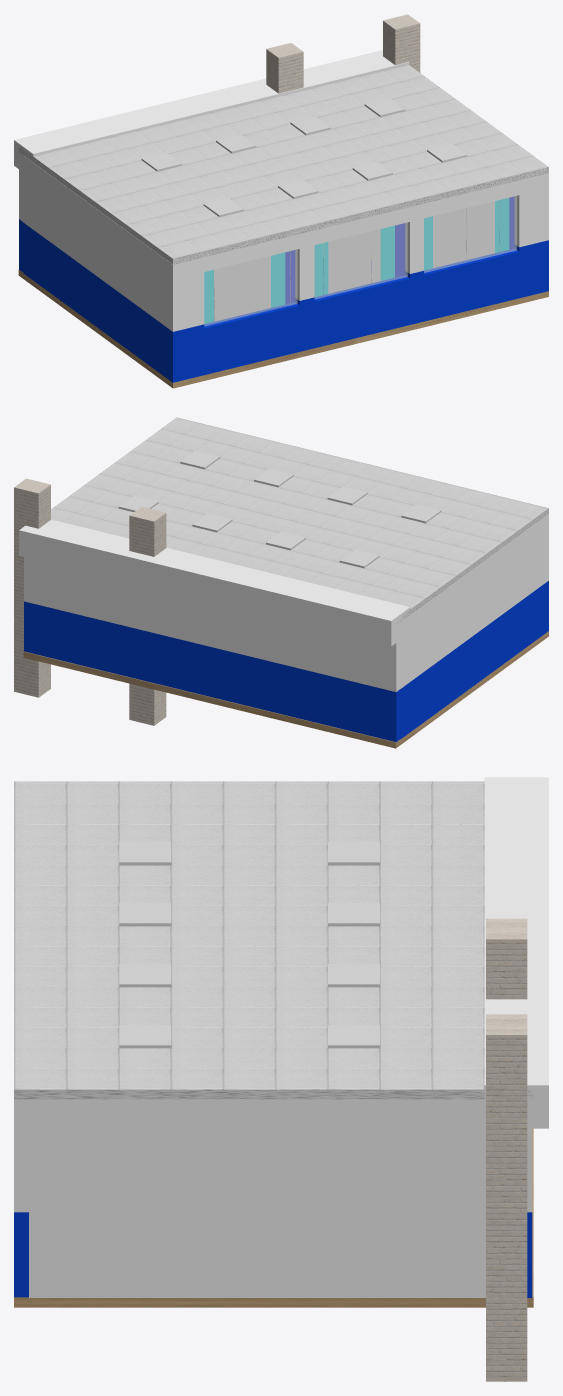
File: офис 3.fbx
The picture shows the model from 3 angles, top to bottom: view 1: azimuth 30°, elevation 25°; view 2: azimuth 150°, elevation 25°; view 3: azimuth 270°, elevation 25°; orthographic projection. The views are drawn at different scales.
Visible parts, largest first — view 1: Cube.005, Cube.003, Cube.008, Cube.006, Cube.009, Cube, Куб.282, Куб.143, Куб.283, Cube.004, Куб.319, Куб.318 (+8 smaller); view 2: Cube.005, Cube.001, Cube.007, Cube.009, Cube.006, Cube, Куб.319, Cube.004, Куб.318, Куб.007, Куб.001, Куб.002 (+4 smaller); view 3: Cube.005, Cube.002, Куб.319, Cube.009, Cube.004, Куб.318, Cube.008, Куб.005, Куб.007, Куб.004, Куб.006, Cube.003 (+4 smaller).
Part boxes in pixels (x1,y1,x2,y2): Cube.005: [18, 65, 548, 264]; Cube.003: [168, 240, 548, 382]; Cube.008: [168, 173, 548, 331]; Cube.006: [23, 155, 168, 327]; Cube.009: [14, 50, 408, 171]; Cube: [23, 223, 168, 378]; Куб.282: [204, 249, 297, 326]; Куб.143: [314, 222, 407, 299]; Куб.283: [424, 196, 516, 272]; Cube.004: [18, 269, 548, 388]; Куб.319: [383, 14, 420, 72]; Куб.318: [266, 43, 303, 93]; Cube.005: [51, 417, 548, 624]; Cube.001: [24, 601, 400, 742]; Cube.007: [24, 557, 400, 691]; Cube.009: [19, 519, 410, 646]; Cube.006: [400, 517, 544, 688]; Cube: [400, 584, 544, 738]; Куб.319: [14, 478, 50, 697]; Cube.004: [23, 631, 548, 748]; Куб.318: [129, 506, 166, 725]; Куб.007: [401, 504, 441, 523]; Куб.001: [180, 450, 220, 469]; Куб.002: [192, 513, 232, 532]; Cube.005: [14, 781, 533, 1099]; Cube.002: [29, 1099, 485, 1297]; Куб.319: [486, 1014, 527, 1381]; Cube.009: [484, 777, 548, 1128]; Cube.004: [14, 1128, 533, 1307]; Куб.318: [486, 918, 527, 999]; Cube.008: [14, 1100, 28, 1212]; Куб.005: [119, 902, 171, 926]; Куб.007: [119, 841, 171, 865]; Куб.004: [328, 902, 379, 926]; Куб.006: [328, 841, 379, 865]; Cube.003: [14, 1212, 28, 1297].
Bounding box in the file's own units: 2063 × 1049 × 1467.
